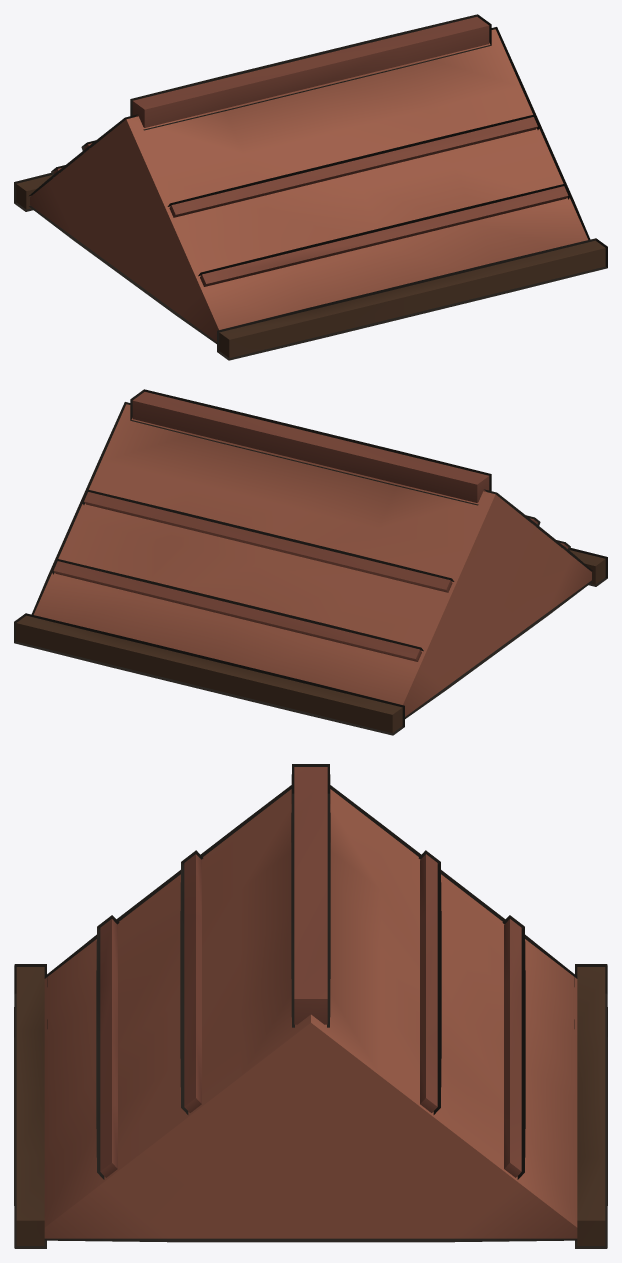
File: toit_2pentes.glb
3 renders of one model, top to bottom at view 1: azimuth 30°, elevation 25°; view 2: azimuth 150°, elevation 25°; view 3: azimuth 270°, elevation 25°, orthographic. The views are drawn at different scales.
Parts seen in each view (by area): view 1: toit_2pentes, toit_2pentes_outline; view 2: toit_2pentes, toit_2pentes_outline; view 3: toit_2pentes, toit_2pentes_outline.
Part boxes in pixels (x1,y1,x2,y2): toit_2pentes: (16, 17, 605, 358); toit_2pentes_outline: (14, 14, 607, 360); toit_2pentes: (16, 392, 605, 733); toit_2pentes_outline: (14, 389, 607, 735); toit_2pentes: (16, 767, 605, 1245); toit_2pentes_outline: (14, 764, 607, 1248).
Size of the model in its own units: 2.16 by 0.9498 by 2.12.
